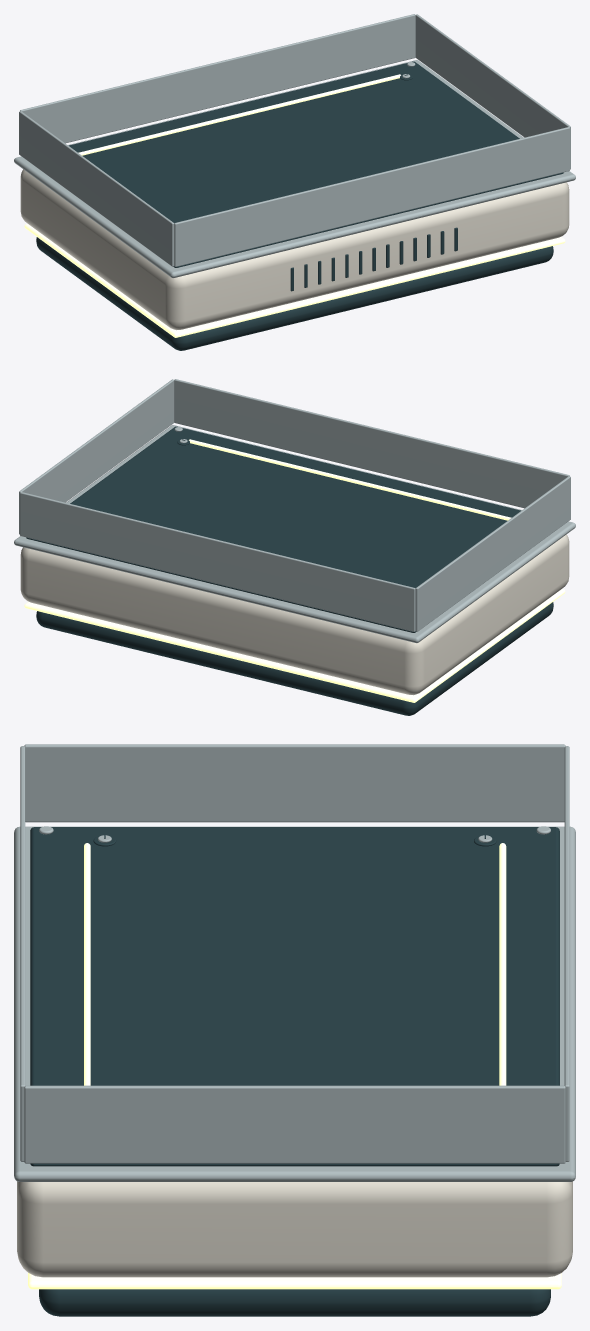
File: bridge-table.glb
3 renders of one model, top to bottom at view 1: azimuth 30°, elevation 25°; view 2: azimuth 150°, elevation 25°; view 3: azimuth 270°, elevation 25°, orthographic. The views are drawn at different scales.
Visible parts, largest first — view 1: bridge-table | Brushed aluminum, bridge-table | Graphite precision, Ceramic main chassis, bridge-table | Warm edge lighting; view 2: bridge-table | Brushed aluminum, bridge-table | Graphite precision, Ceramic main chassis, bridge-table | Warm edge lighting; view 3: bridge-table | Graphite precision, bridge-table | Brushed aluminum, Ceramic main chassis, bridge-table | Warm edge lighting.
Part boxes in pixels (x1,y1,x2,y2): bridge-table | Brushed aluminum: [14, 14, 575, 278]; bridge-table | Graphite precision: [36, 61, 563, 350]; Ceramic main chassis: [20, 169, 569, 330]; bridge-table | Warm edge lighting: [24, 74, 565, 337]; bridge-table | Brushed aluminum: [14, 379, 575, 643]; bridge-table | Graphite precision: [26, 426, 553, 715]; Ceramic main chassis: [20, 534, 569, 695]; bridge-table | Warm edge lighting: [24, 439, 565, 702]; bridge-table | Graphite precision: [30, 827, 559, 1316]; bridge-table | Brushed aluminum: [14, 744, 575, 1181]; Ceramic main chassis: [17, 1181, 572, 1277]; bridge-table | Warm edge lighting: [28, 843, 561, 1289].
Bounding box in the file's own units: 5.64 × 1.84 × 3.84.
